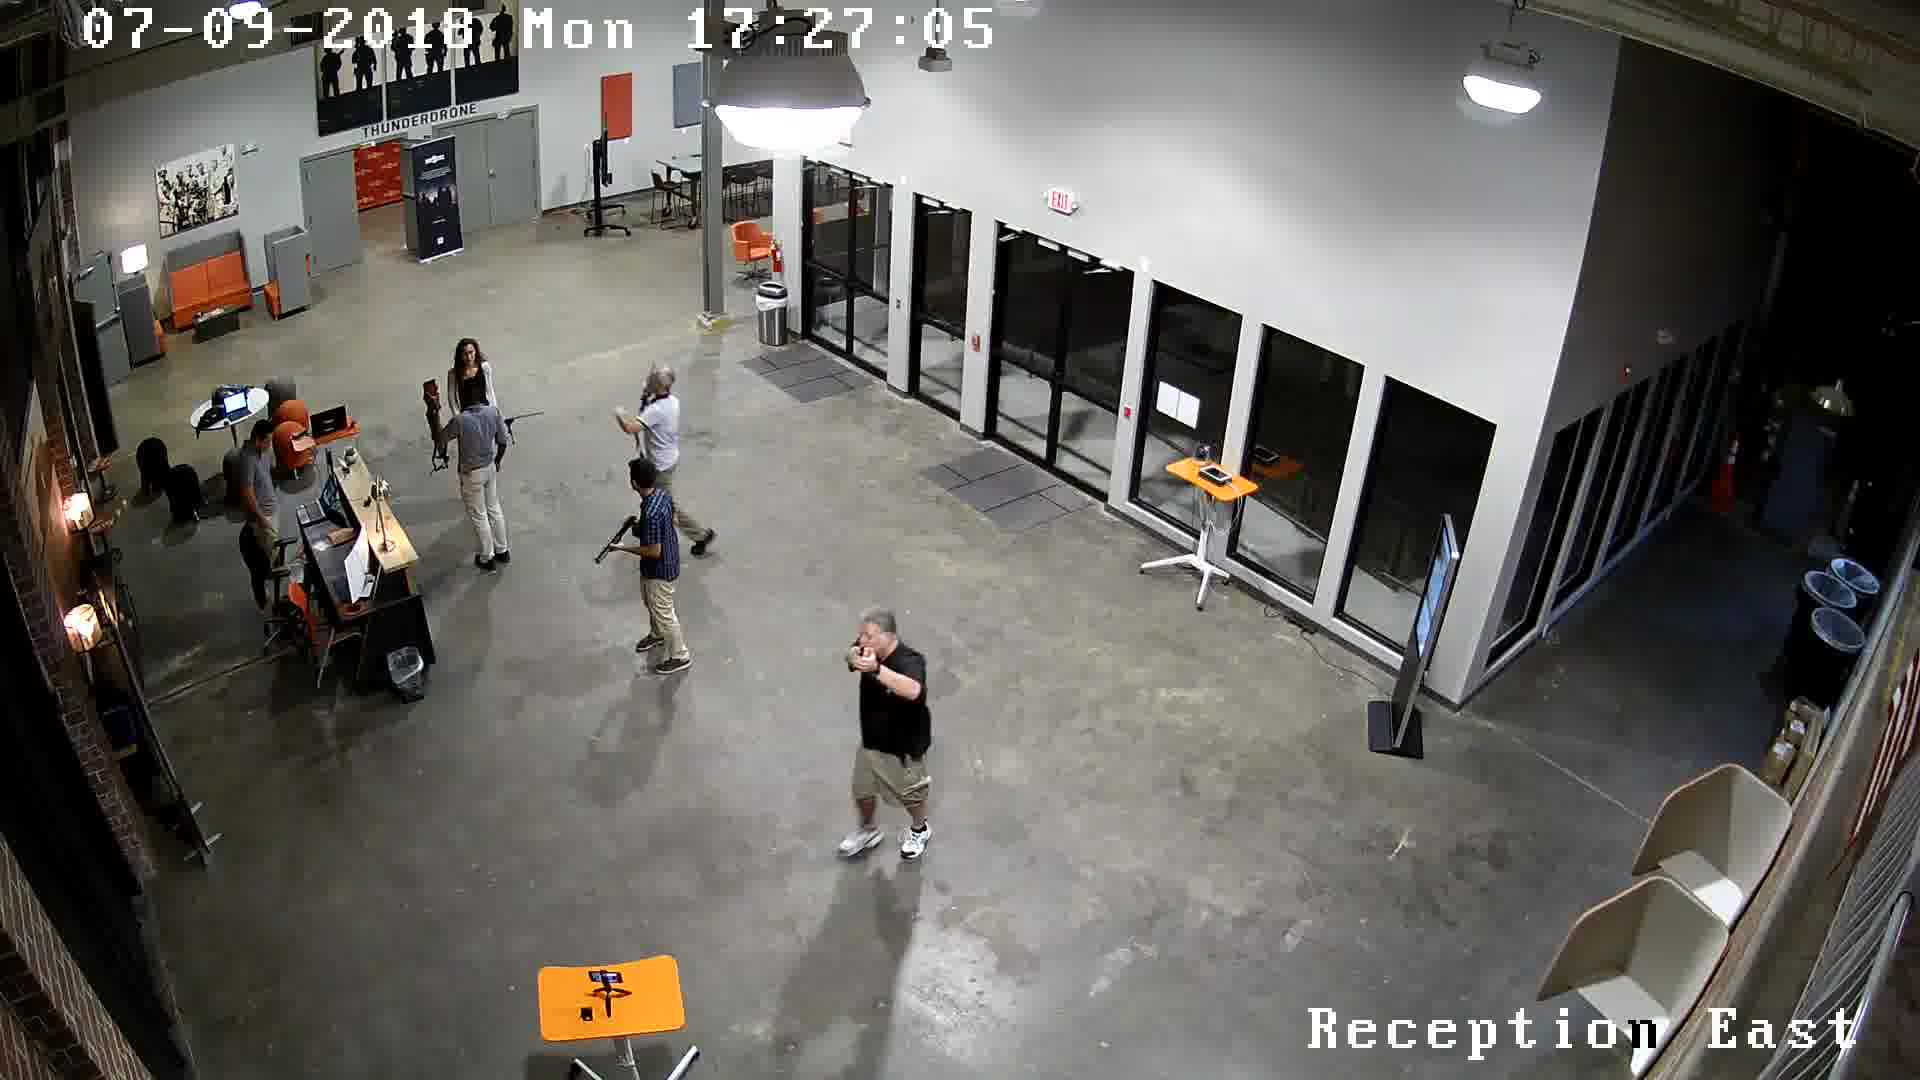pistol: (843, 638, 885, 673)
